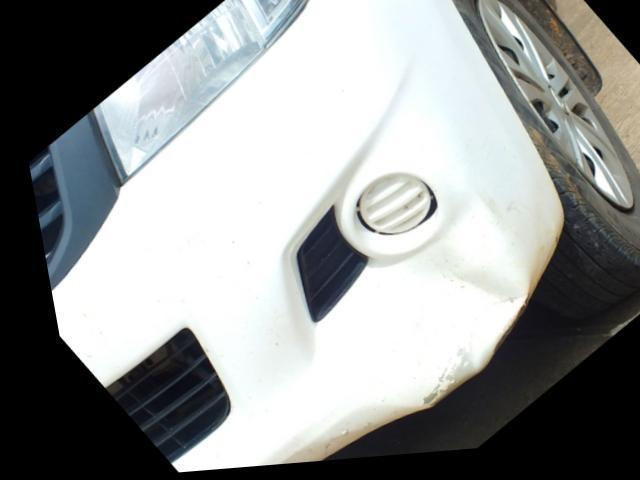dent: (280, 199, 517, 423)
